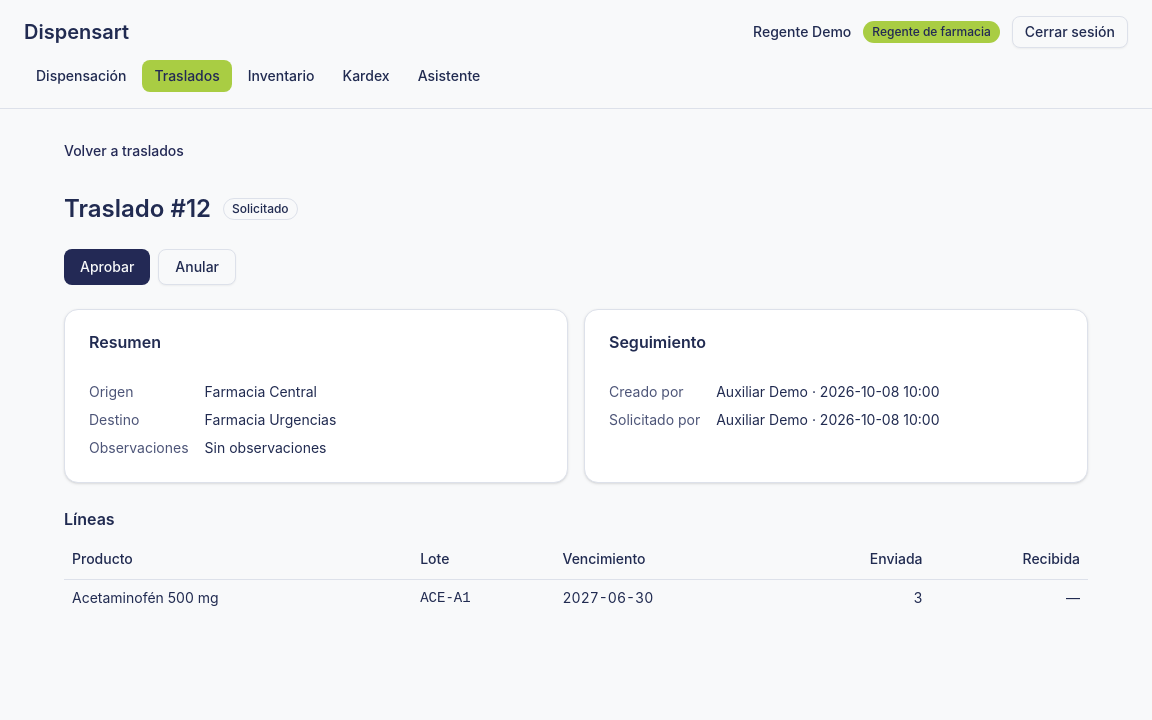
Test: Traslados › acciones según estado y rol › Otro regente aprueba: pasa a "Aprobado" con su nombre como aprobador
Expected: the heading "Traslado #12" is shown, [64,193,211,225]
Click the button "Aprobar" at (107, 267), box [64,249,150,285]
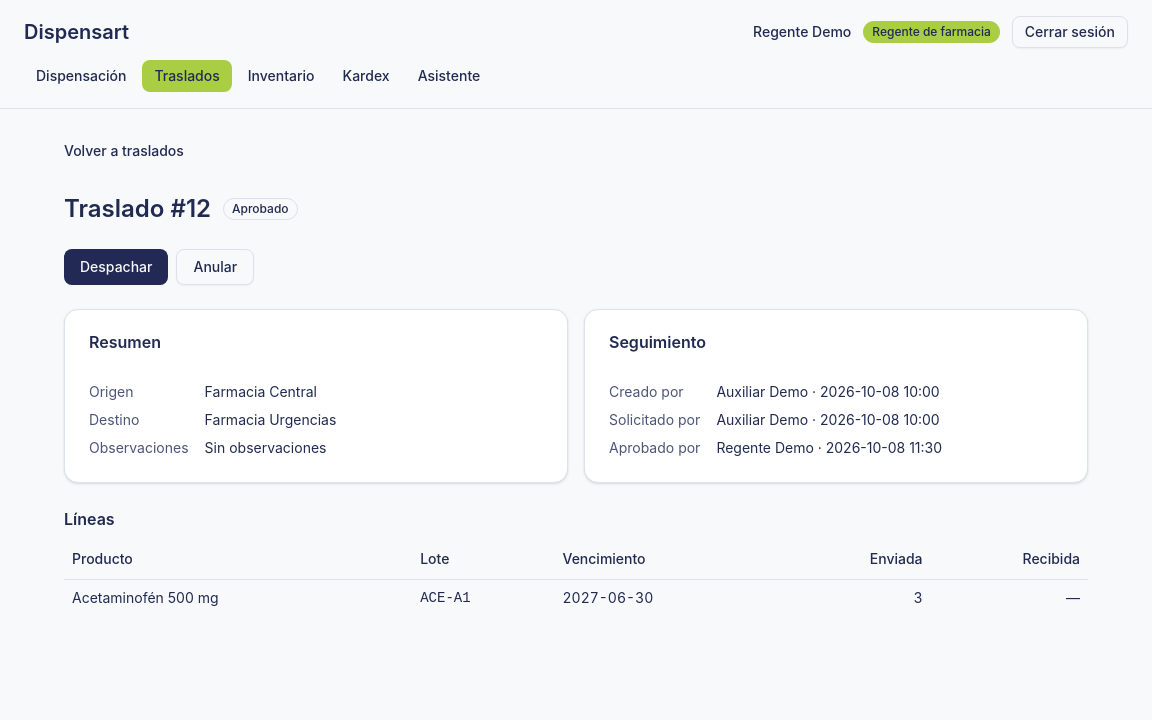
Result: the text "Aprobado" is shown at [223,198,298,220]
